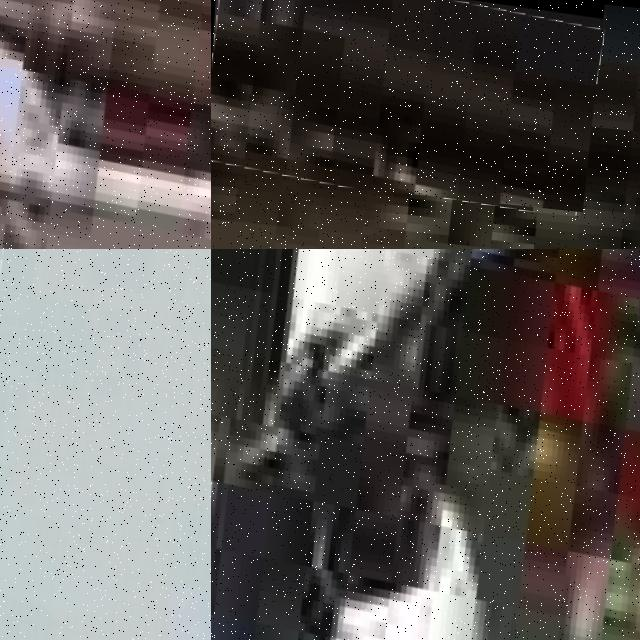drone: (211, 249, 640, 640), (211, 0, 604, 212), (0, 249, 211, 640), (0, 0, 211, 249)
